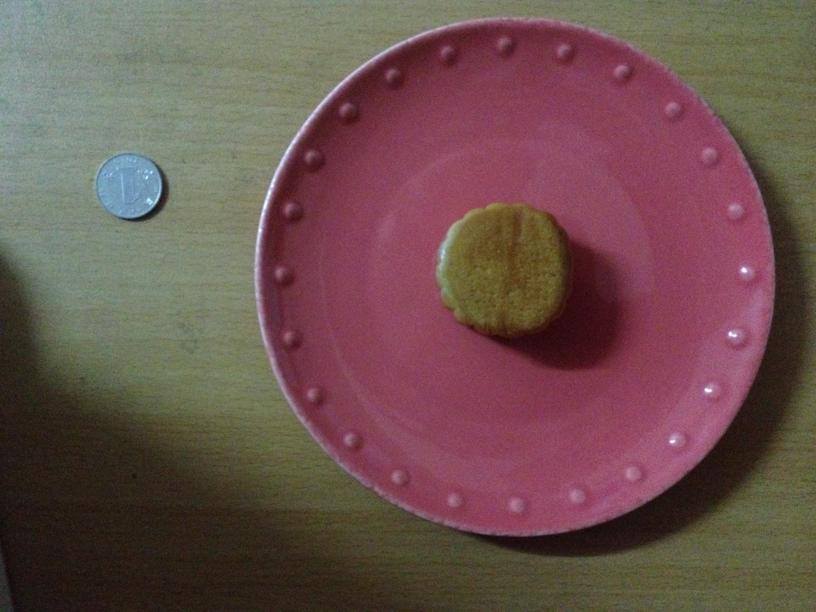coin: (90, 152, 163, 219)
mooncake: (433, 200, 573, 336)
